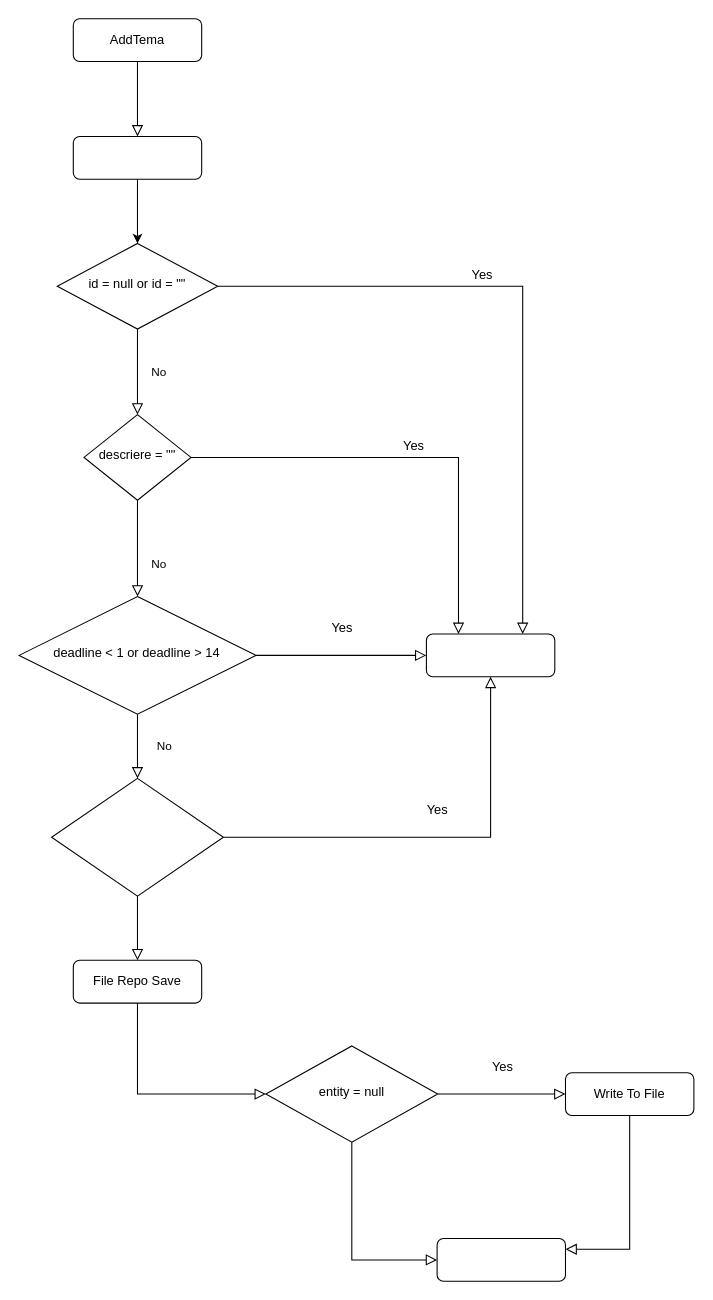
This 713x1300 diagram has some shape labels left out. The box of each missing label's shape, as (x1, y1, x2, y2) in pixels:
End: (436, 1237, 565, 1281)
primire < 1 or primire > 14: (51, 777, 223, 896)
Validate: (72, 135, 202, 179)
ValidationException: (425, 633, 555, 677)
